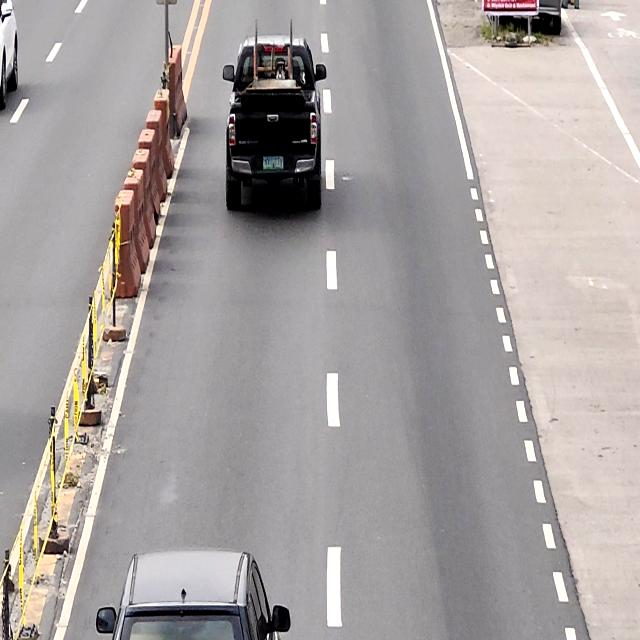Car: (222, 34, 326, 212), (96, 550, 290, 640)
License-Plate: (262, 156, 284, 171)
